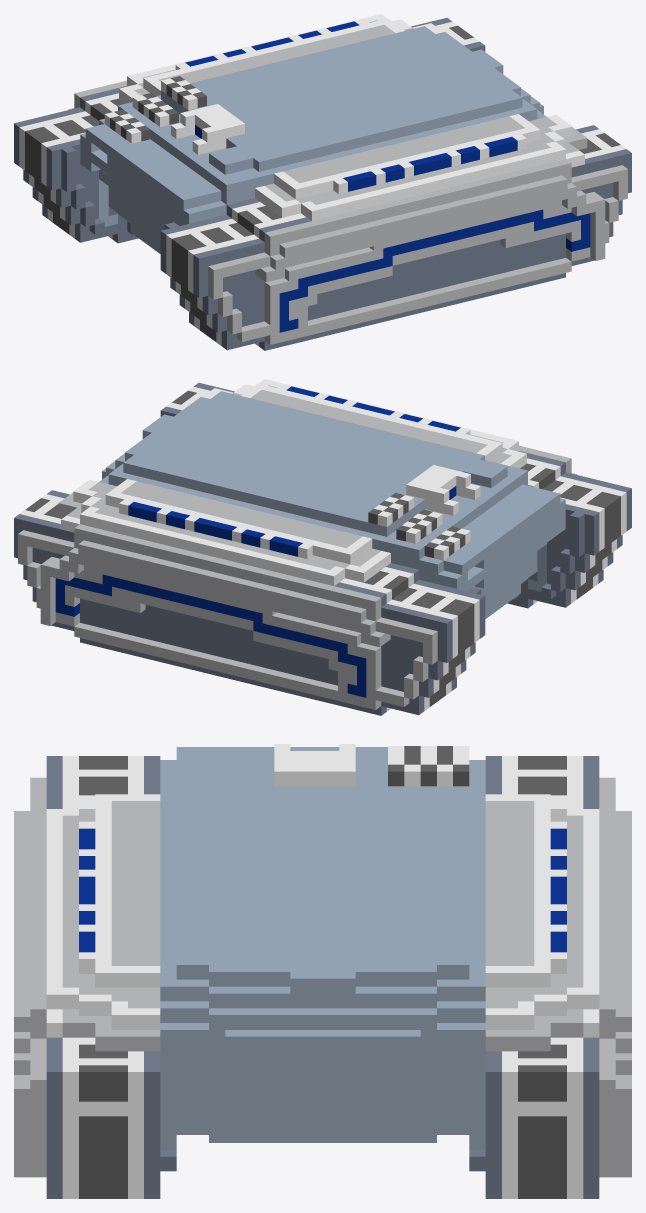
File: infinity_enemy_tank_1-1.obj
The picture shows the model from 3 angles, top to bottom: view 1: azimuth 30°, elevation 25°; view 2: azimuth 150°, elevation 25°; view 3: azimuth 270°, elevation 25°; orthographic projection. The views are drawn at different scales.
Bounding box in the file's own units: 4.6 × 1.6 × 3.8.
